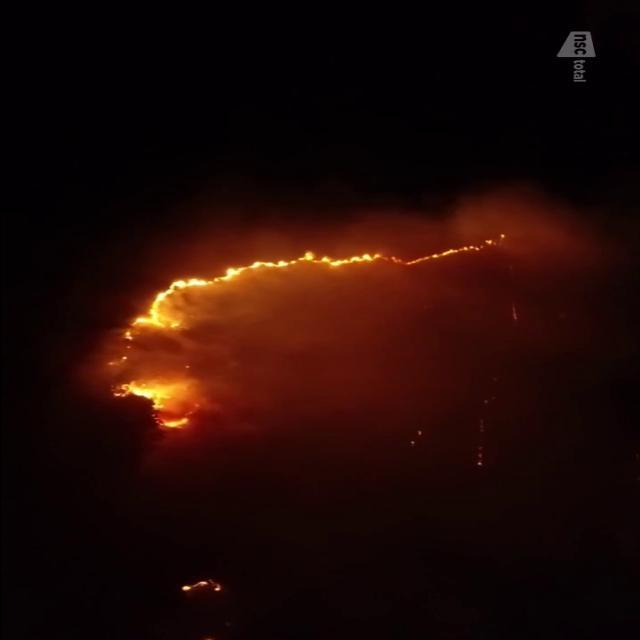Fire: (120, 237, 494, 342), (122, 380, 194, 424), (180, 578, 222, 594)
